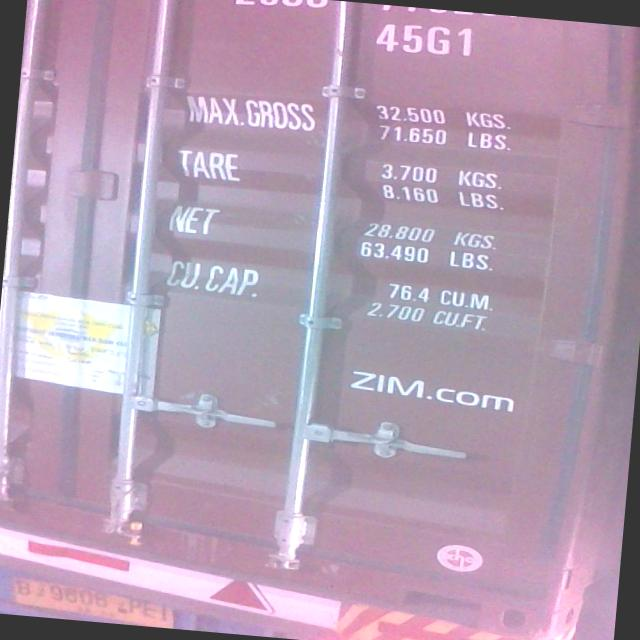seal: (115, 516, 151, 550)
